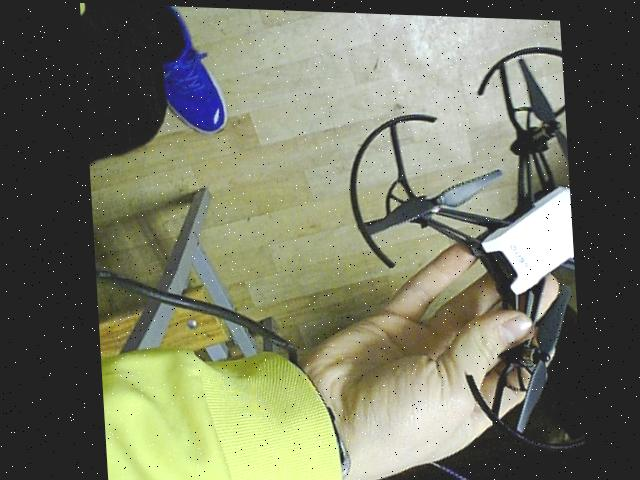drone: (327, 14, 580, 462)
